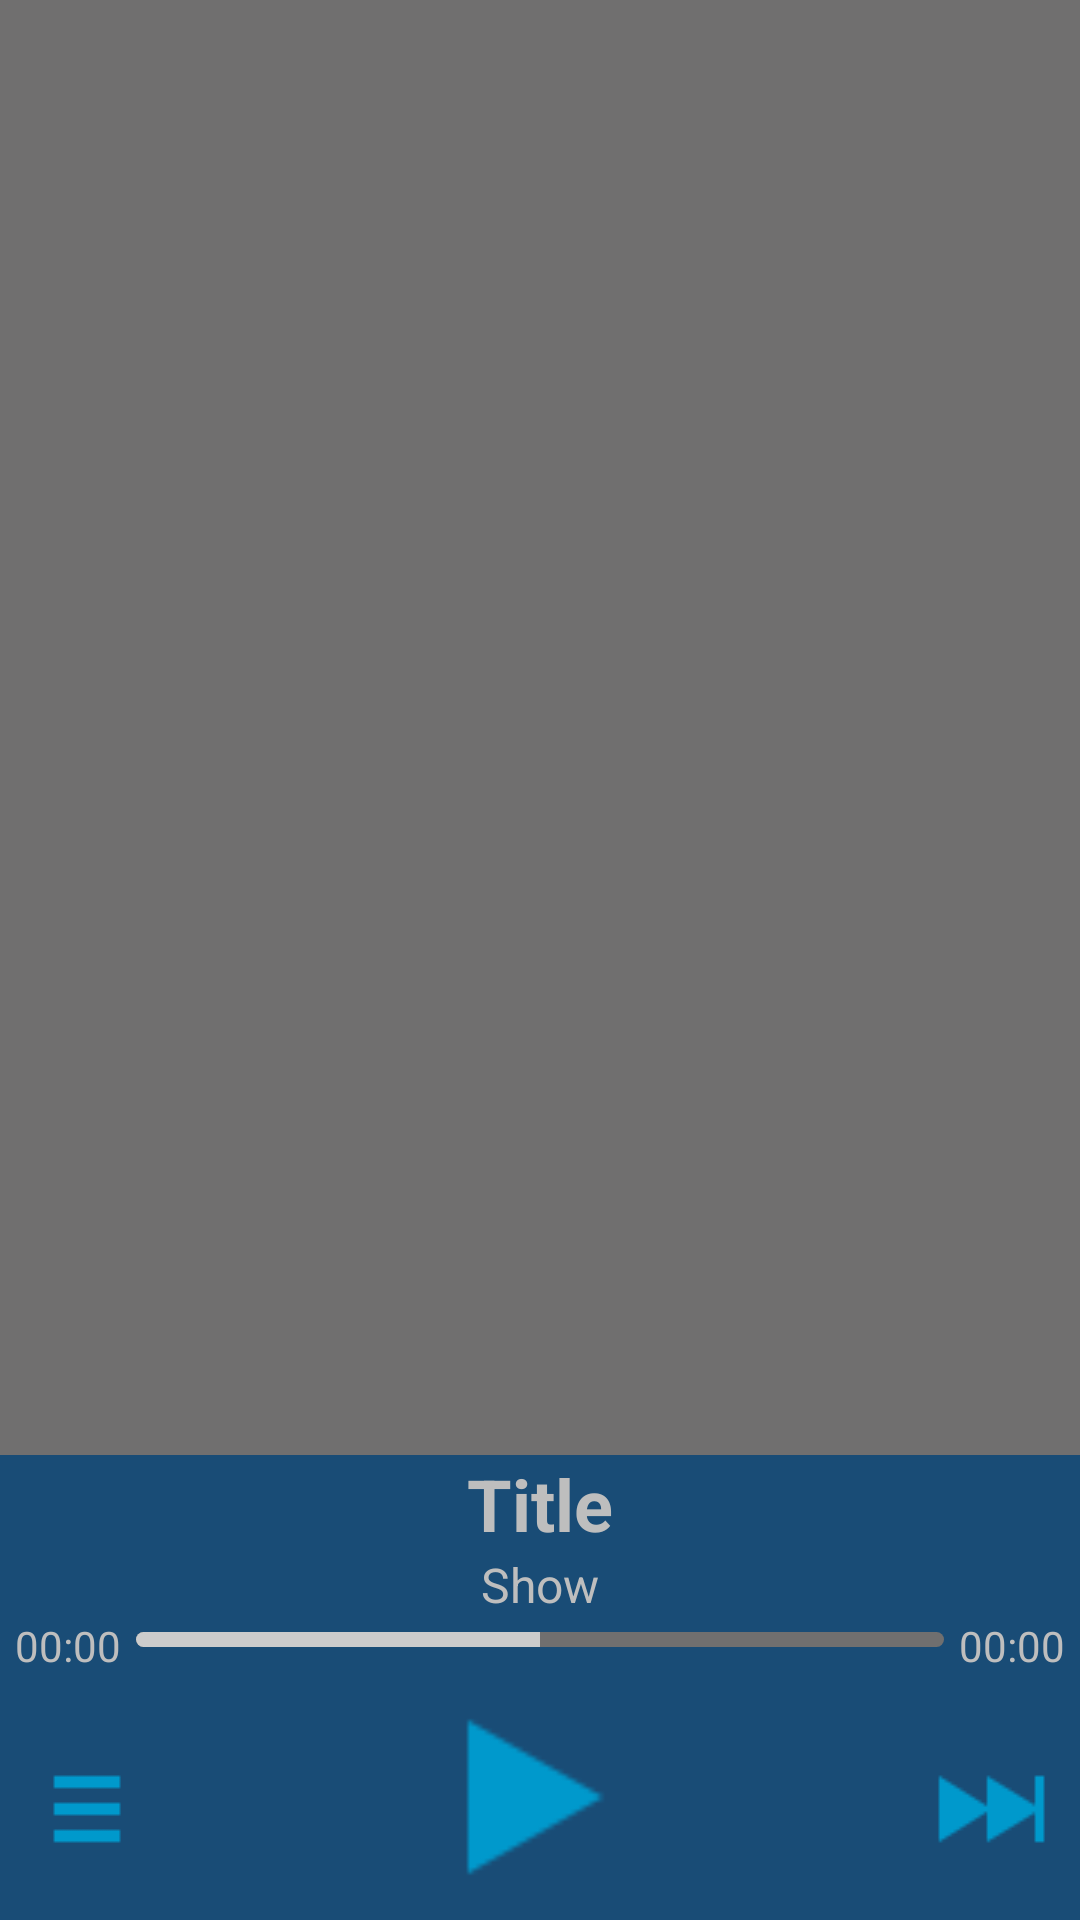

Icon click points for this 1080px×1920px phone screenshot, format (x=x, y=y):
Next: (x=991, y=1809)
Play/Pause: (x=534, y=1797)
Queue: (x=87, y=1809)
